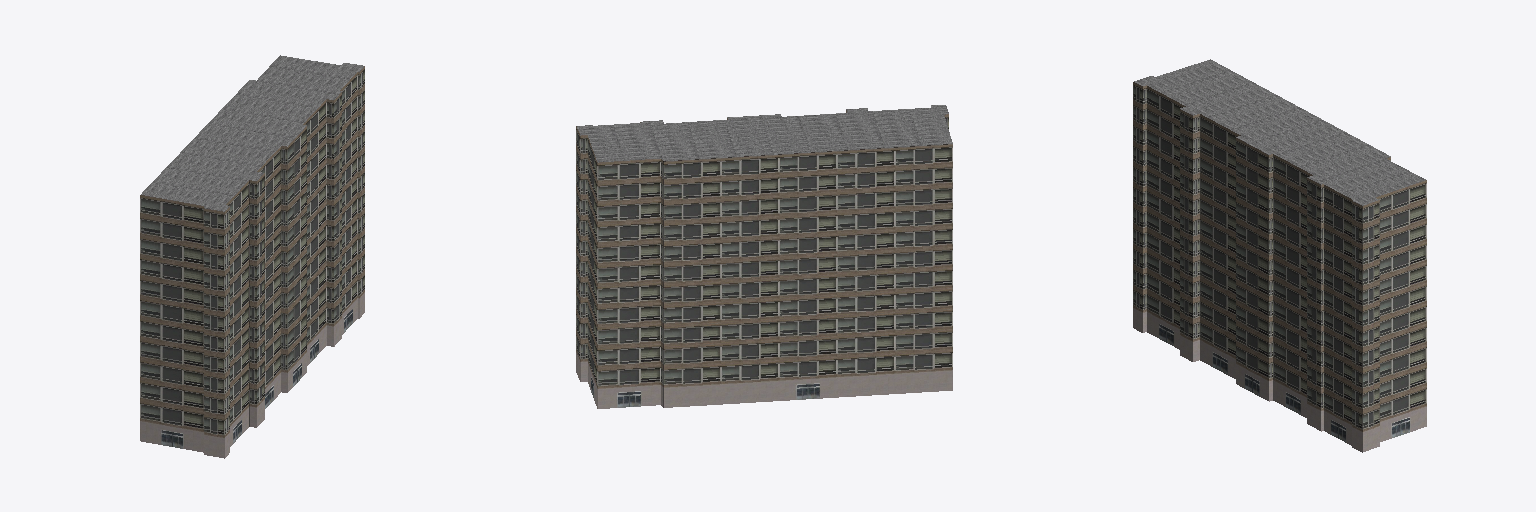
3 renders of one model, left to right at view 1: azimuth 30°, elevation 25°; view 2: azimuth 150°, elevation 25°; view 3: azimuth 270°, elevation 25°, orthographic.
Visible parts, largest first — view 1: BuildingMaster_[number redacted]_0, BuildingMaster_[number redacted]_1; view 2: BuildingMaster_[number redacted]_0, BuildingMaster_[number redacted]_1; view 3: BuildingMaster_[number redacted]_0, BuildingMaster_[number redacted]_1.
Boxes of the visible parts, x1,y1,x2,y2 form: BuildingMaster_[number redacted]_0: [140, 66, 364, 458]; BuildingMaster_[number redacted]_1: [141, 55, 363, 211]; BuildingMaster_[number redacted]_0: [576, 110, 952, 408]; BuildingMaster_[number redacted]_1: [577, 105, 952, 162]; BuildingMaster_[number redacted]_0: [1133, 82, 1426, 452]; BuildingMaster_[number redacted]_1: [1134, 59, 1425, 205].
Bounding box in the file's own units: 53.56 × 42 × 45.23.
2 materials, 2 textured.